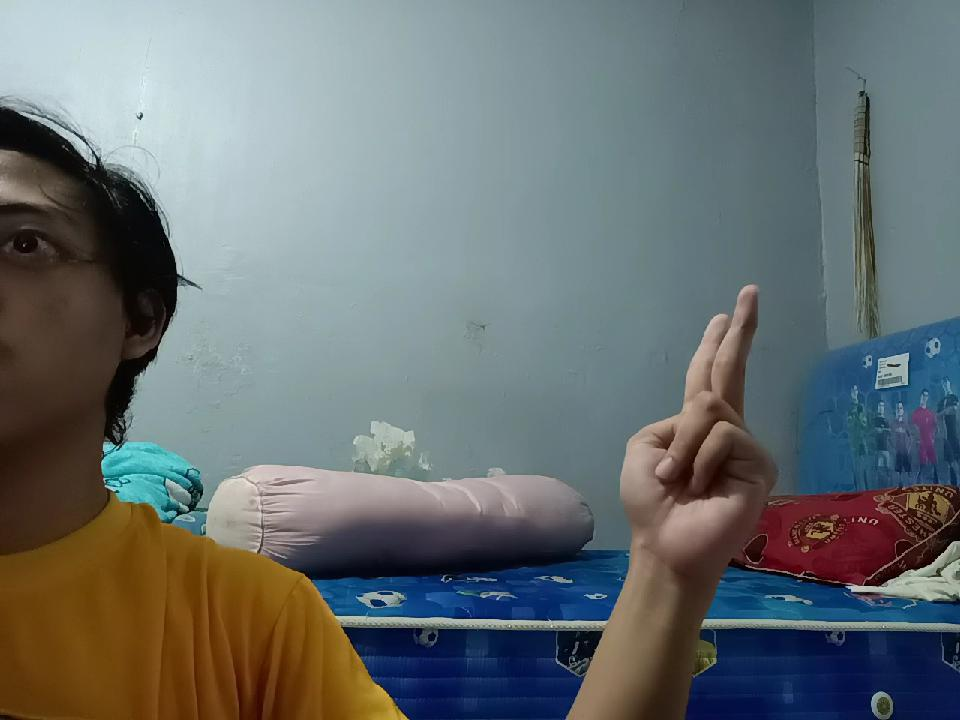scissors: (606, 288, 776, 570)
